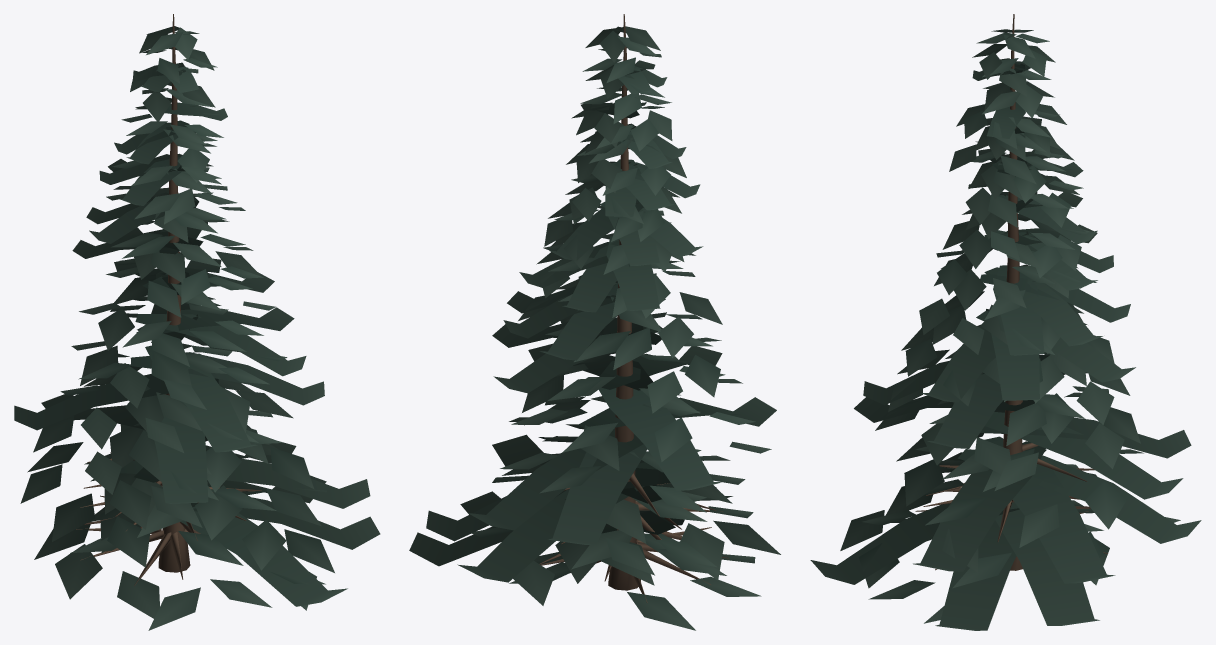
Rendered from tree_spruce_mid.glb.
3 renders of one model, left to right at view 1: azimuth 30°, elevation 25°; view 2: azimuth 150°, elevation 25°; view 3: azimuth 270°, elevation 25°, orthographic. The views are drawn at different scales.
Parts seen in each view (by area): view 1: tree_spruce_mid; view 2: tree_spruce_mid; view 3: tree_spruce_mid.
Part boxes in pixels (x1,y1,x2,y2): tree_spruce_mid: (14, 14, 380, 630); tree_spruce_mid: (409, 14, 780, 630); tree_spruce_mid: (810, 14, 1201, 630).
Bounding box in the file's own units: 9.15 × 15.98 × 10.2.
